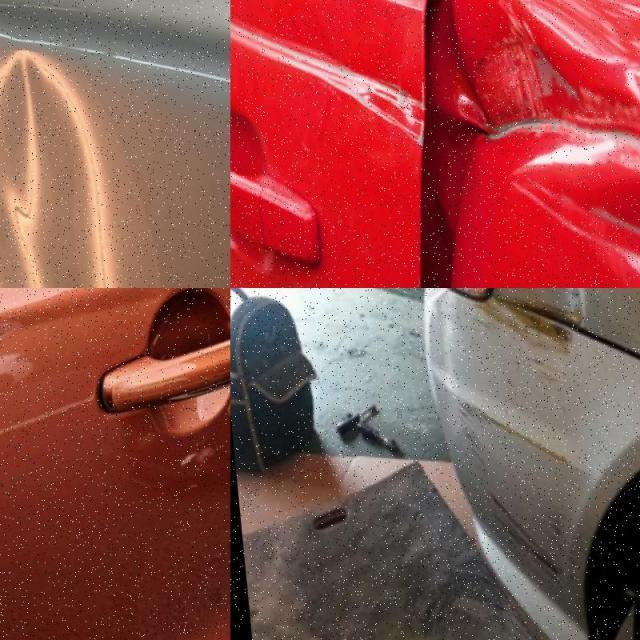car damage: (0, 43, 117, 292), (456, 22, 640, 174), (479, 483, 559, 583), (526, 0, 627, 73), (494, 111, 597, 138)
